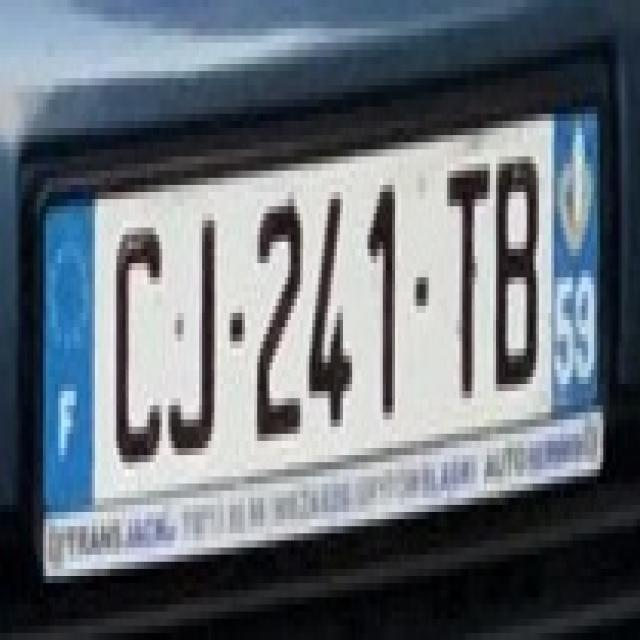EU: (35, 103, 606, 577)
France: (42, 198, 95, 517)
